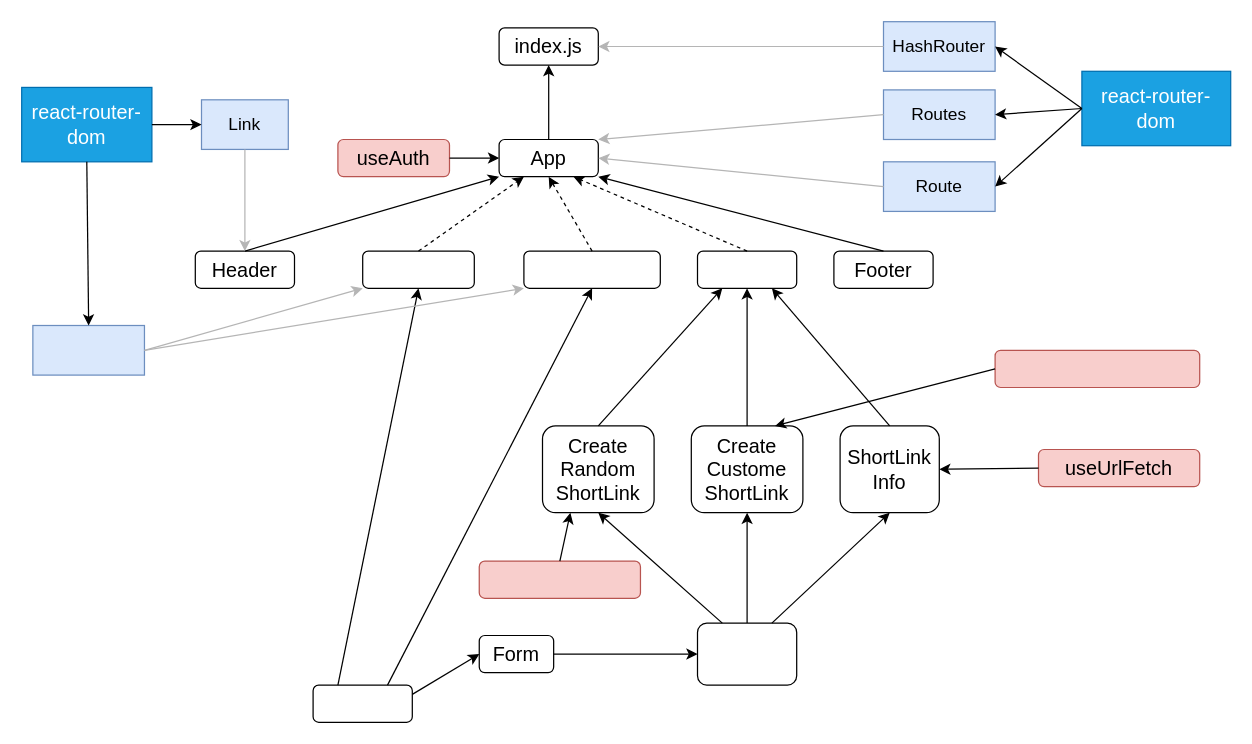
The diagram is 1252 pixels wide and 744 high, and some of its shapes have lost their labels. The box of each missing label's shape, as (x1, y1, x2, y2) in pixels:
Auth(login): (361, 250, 474, 288)
Auth(sign up): (523, 250, 660, 288)
Button: (312, 684, 412, 722)
Content: (696, 250, 797, 288)
Navigate: (32, 324, 144, 375)
Section Wrapper: (696, 622, 797, 685)
useCustomLinkCreate: (994, 349, 1200, 388)
useLinkCreate: (478, 560, 640, 598)
